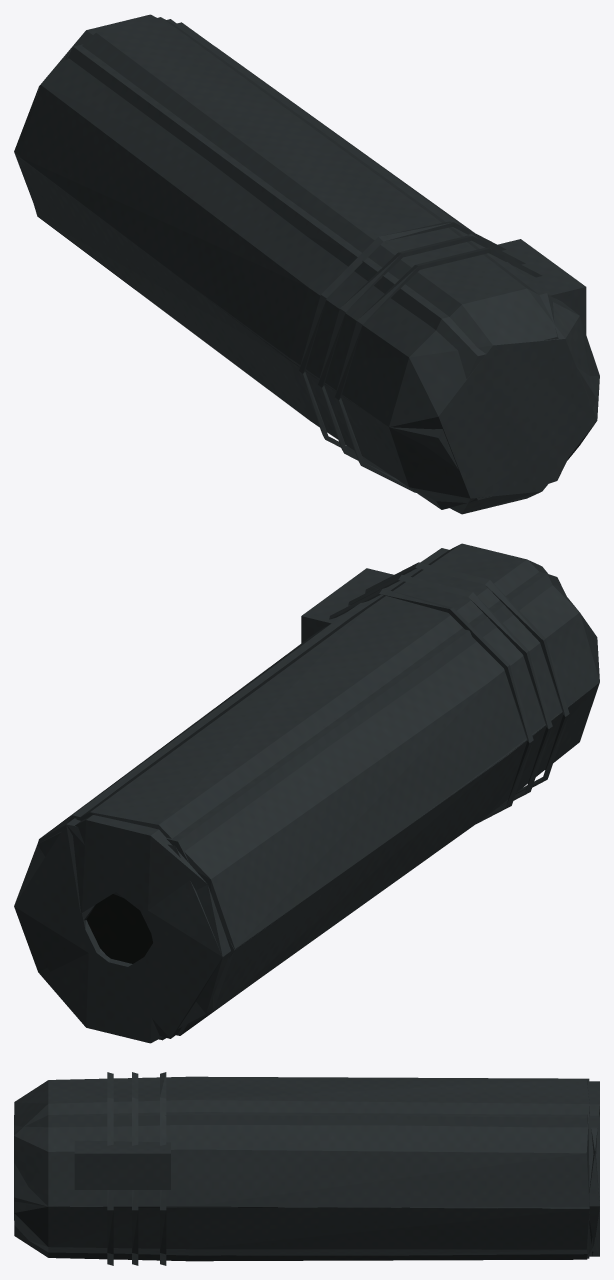
Rendered from ar_compact_can.glb.
3 renders of one model, top to bottom at view 1: azimuth 30°, elevation 25°; view 2: azimuth 150°, elevation 25°; view 3: azimuth 270°, elevation 25°, orthographic. The views are drawn at different scales.
Parts seen in each view (by area): view 1: muzzle__ar_compact_can_LOD0_RAID_Secondary_Original_steel, muzzle__ar_compact_can_LOD1_RAID_Secondary_Original_steel; view 2: muzzle__ar_compact_can_LOD0_RAID_Secondary_Original_steel, muzzle__ar_compact_can_LOD1_RAID_Secondary_Original_steel, muzzle__ar_compact_can_LOD0_RAID_Secondary_Original_rubber; view 3: muzzle__ar_compact_can_LOD0_RAID_Secondary_Original_steel, muzzle__ar_compact_can_LOD1_RAID_Secondary_Original_steel.
Boxes of the visible parts, left/top/right/bottom form: muzzle__ar_compact_can_LOD0_RAID_Secondary_Original_steel: left=14, top=14, right=599, bottom=514; muzzle__ar_compact_can_LOD1_RAID_Secondary_Original_steel: left=19, top=19, right=599, bottom=509; muzzle__ar_compact_can_LOD0_RAID_Secondary_Original_steel: left=14, top=543, right=599, bottom=1043; muzzle__ar_compact_can_LOD1_RAID_Secondary_Original_steel: left=14, top=548, right=594, bottom=1038; muzzle__ar_compact_can_LOD0_RAID_Secondary_Original_rubber: left=87, top=894, right=152, bottom=963; muzzle__ar_compact_can_LOD0_RAID_Secondary_Original_steel: left=14, top=1072, right=599, bottom=1265; muzzle__ar_compact_can_LOD1_RAID_Secondary_Original_steel: left=14, top=1076, right=599, bottom=1261.
Bounding box in the file's own units: 0.0631 × 0.06 × 0.1891.
2 materials, 2 textured.
